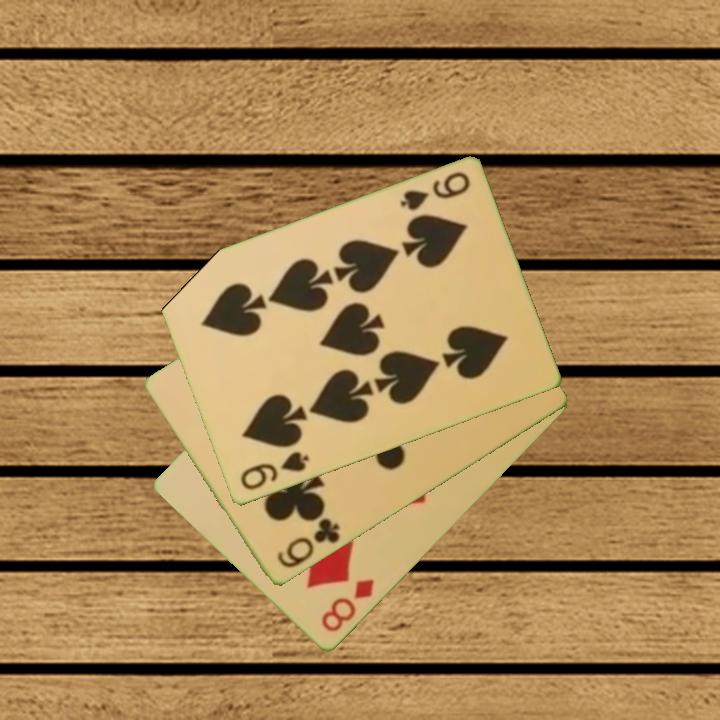6c: (273, 514, 343, 572)
8d: (317, 575, 378, 636)
9s: (236, 448, 312, 494), (396, 169, 473, 214)
